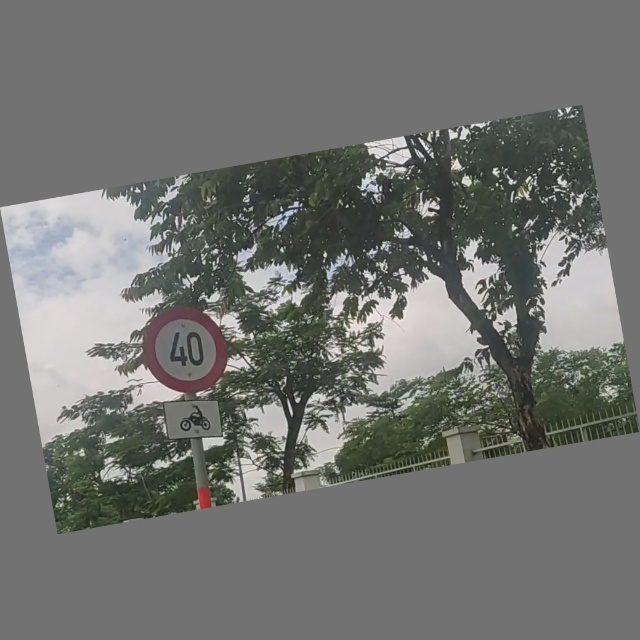P.127*40: (135, 297, 238, 406)
S.505a*Xe may: (157, 388, 231, 452)
